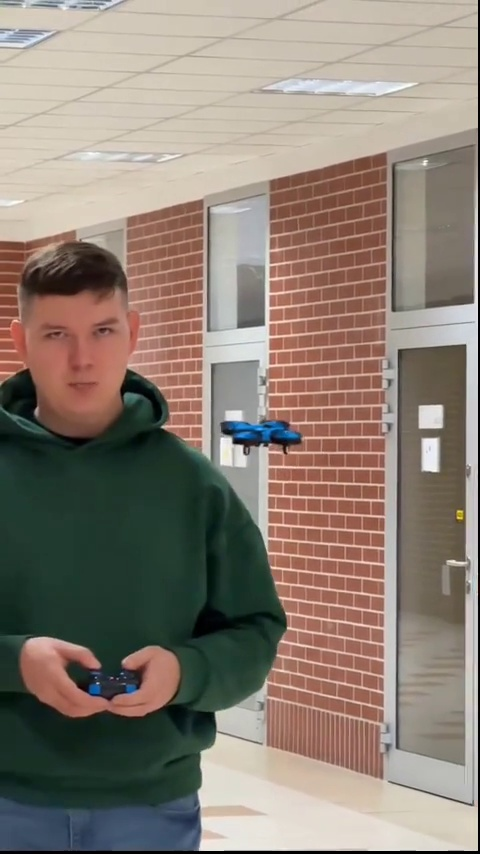drone: (218, 415, 300, 453)
no vest: (0, 242, 286, 838)
